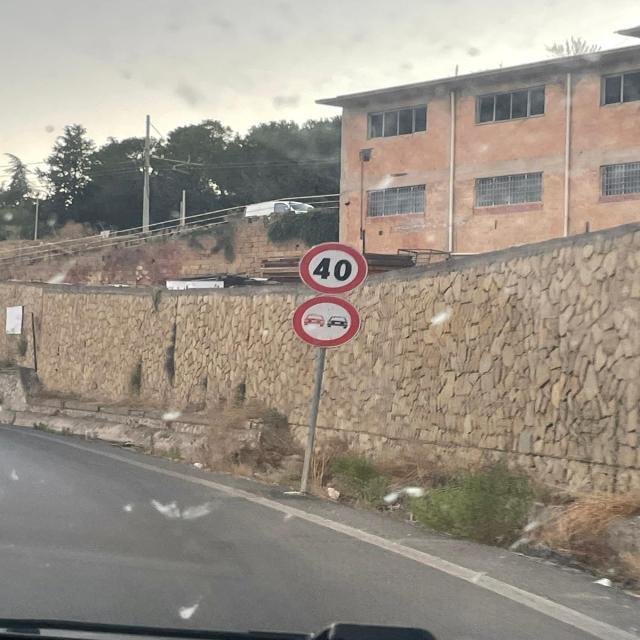forb_overtake: (292, 295, 366, 346)
forb_speed_over_40: (295, 239, 371, 296)
